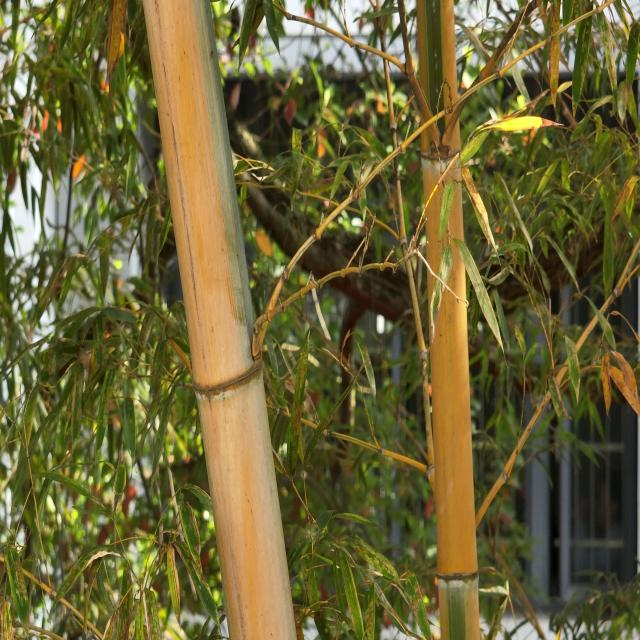Bamboo-shoots: (143, 0, 300, 640)
